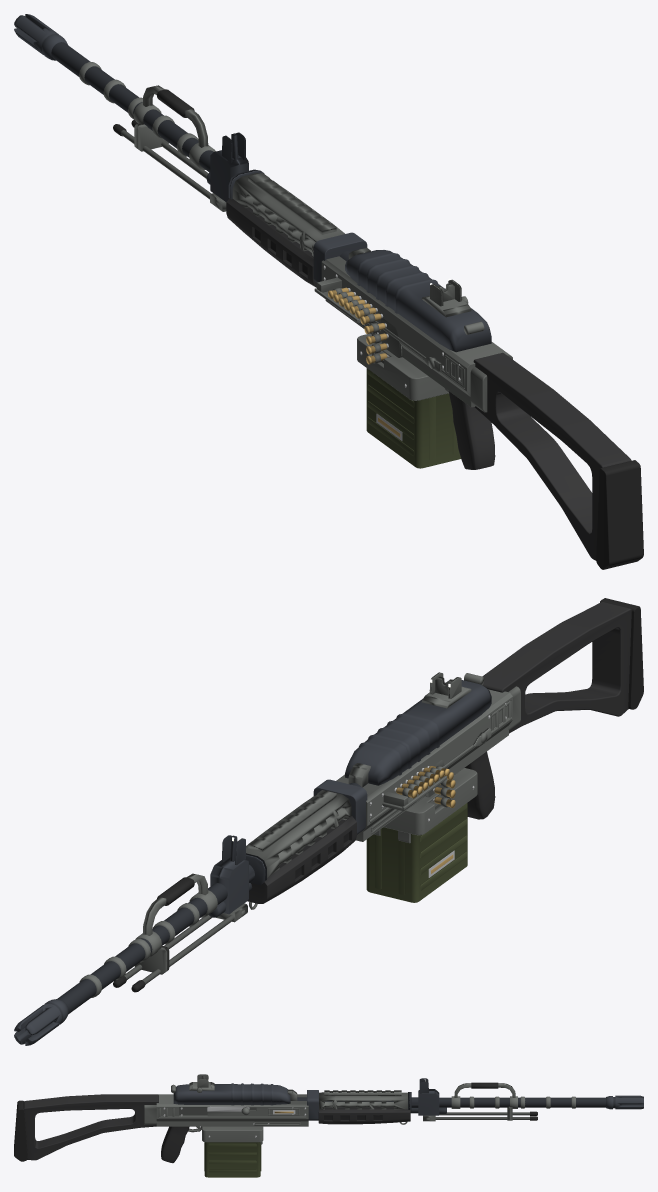
File: vm_lmg.glb
3 renders of one model, top to bottom at view 1: azimuth 30°, elevation 25°; view 2: azimuth 150°, elevation 25°; view 3: azimuth 270°, elevation 25°, orthographic. The views are drawn at different scales.
Parts seen in each view (by area): view 1: body_steel_park, body_polymer, body_steel_blued, mag, body_rubber; view 2: body_steel_park, body_polymer, body_steel_blued, mag, body_rubber; view 3: body_steel_park, body_polymer, body_steel_blued, mag, body_rubber, charging.
Boxes of the visible parts, x1,y1,x2,y2 form: body_steel_park: [79, 62, 512, 412]; body_polymer: [226, 198, 631, 560]; body_steel_blued: [14, 14, 491, 352]; mag: [328, 287, 460, 468]; body_rubber: [113, 89, 643, 569]; body_steel_park: [79, 672, 520, 997]; body_polymer: [247, 602, 631, 903]; body_steel_blued: [14, 680, 491, 1045]; mag: [366, 766, 467, 902]; body_rubber: [113, 598, 643, 992]; body_steel_park: [144, 1074, 575, 1142]; body_polymer: [23, 1094, 410, 1163]; body_steel_blued: [173, 1078, 643, 1120]; mag: [204, 1141, 262, 1177]; body_rubber: [14, 1082, 537, 1161]; charging: [207, 1106, 249, 1115].
Bounding box in the file's own units: 0.113 × 0.2318 × 1.41.
